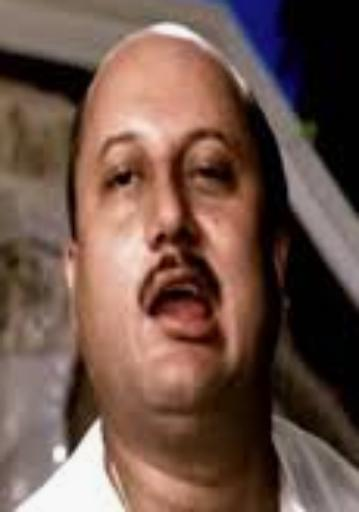left_eye: (192, 164, 233, 190)
left_lip_corner: (206, 297, 226, 322)
right_eye: (103, 169, 146, 196)
right_lip_corner: (144, 302, 163, 323)
